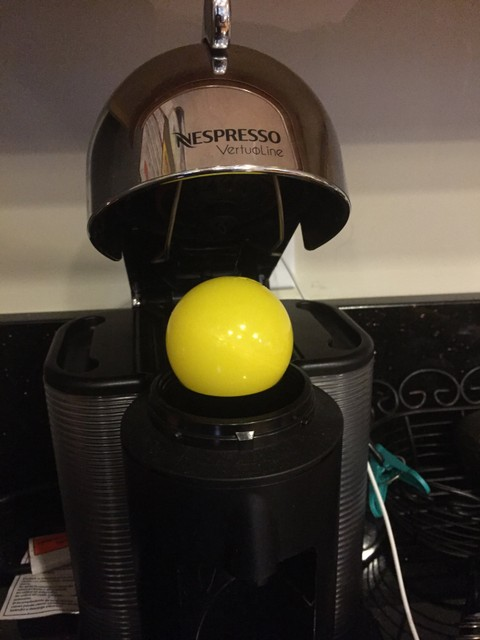ball: (163, 274, 293, 396)
